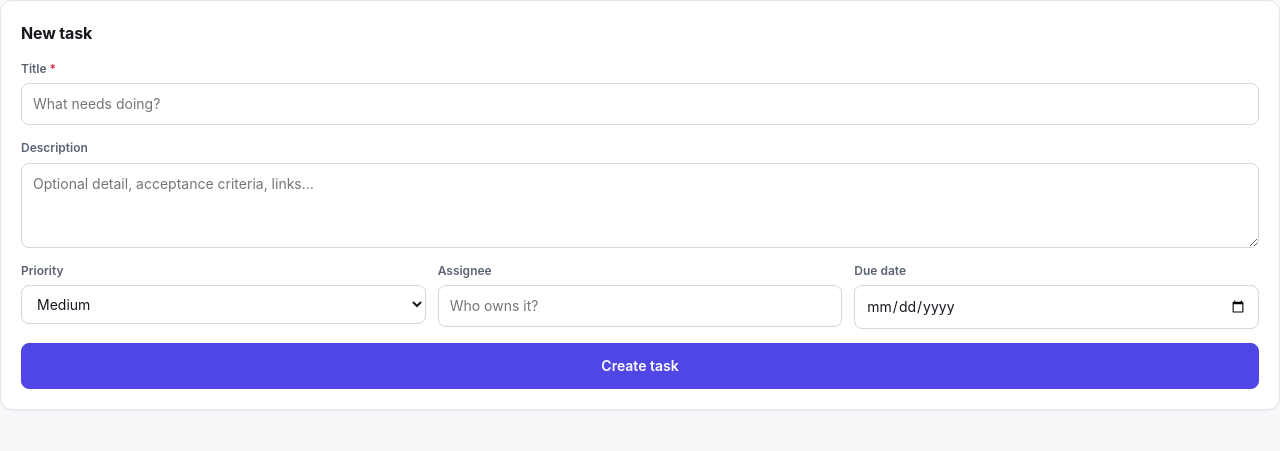
Test case: TaskForm › blocks submission and shows an error for a too-short title
Type "ab" into the field labelled "Title *" at x=640, y=104, box [21,83,1259,125]
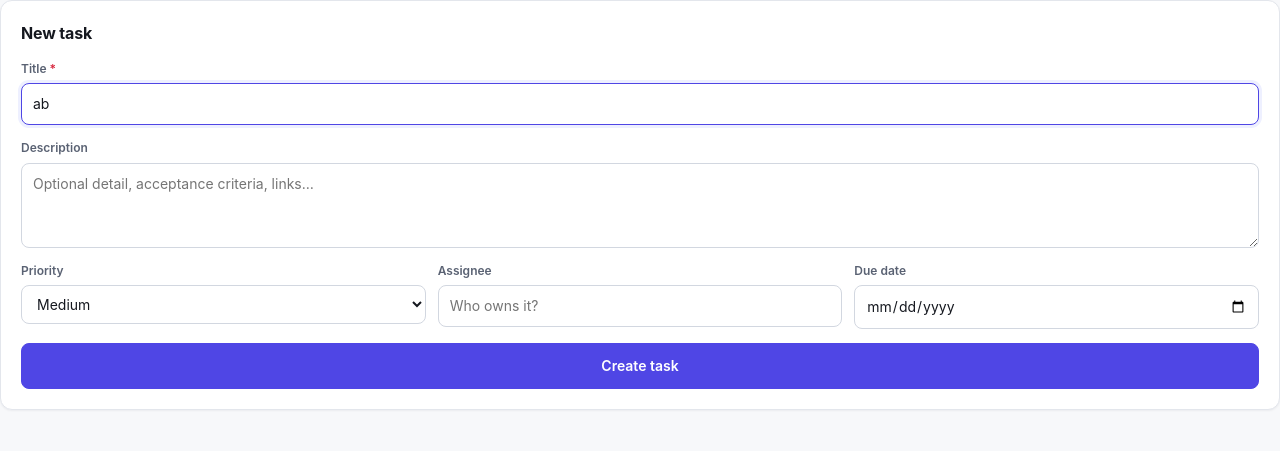
Click the button "Create task" at x=640, y=366, box [21,343,1259,389]
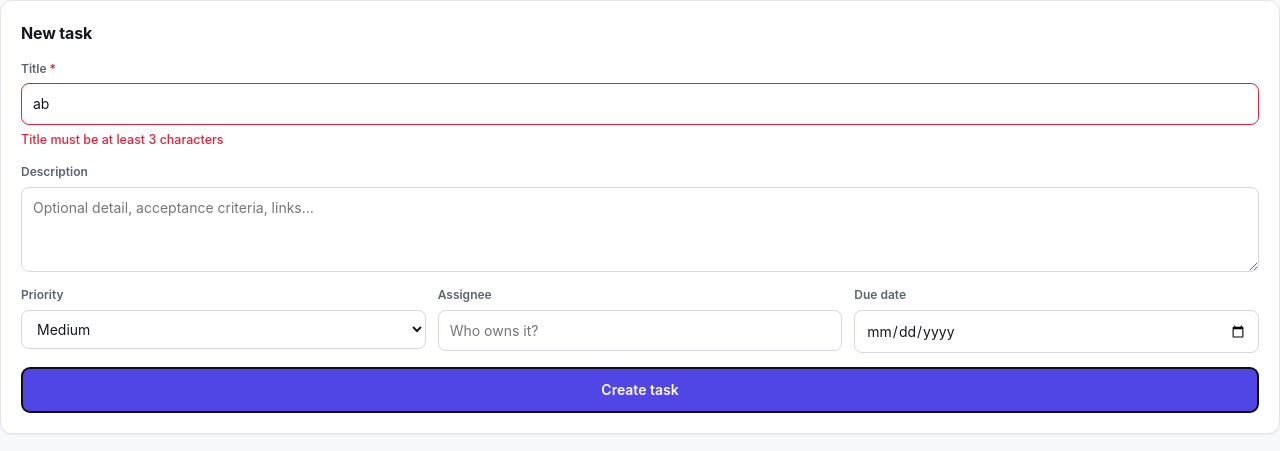
Result: the text "Title must be at least 3 characters" is shown at [21,132,224,147]
